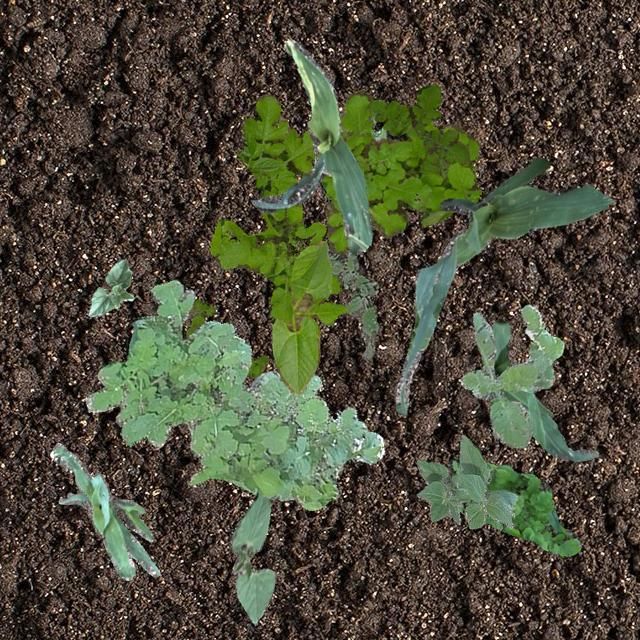crop: (395, 156, 613, 414), (250, 38, 372, 254), (48, 442, 158, 580), (492, 320, 598, 460), (270, 240, 346, 394), (416, 433, 516, 528), (230, 493, 276, 622), (88, 258, 134, 316)
weed: (84, 278, 384, 510), (208, 94, 346, 322), (320, 90, 480, 254), (460, 304, 562, 446), (446, 458, 580, 556), (366, 82, 468, 174), (185, 298, 268, 378), (327, 246, 378, 360), (368, 112, 388, 140)
